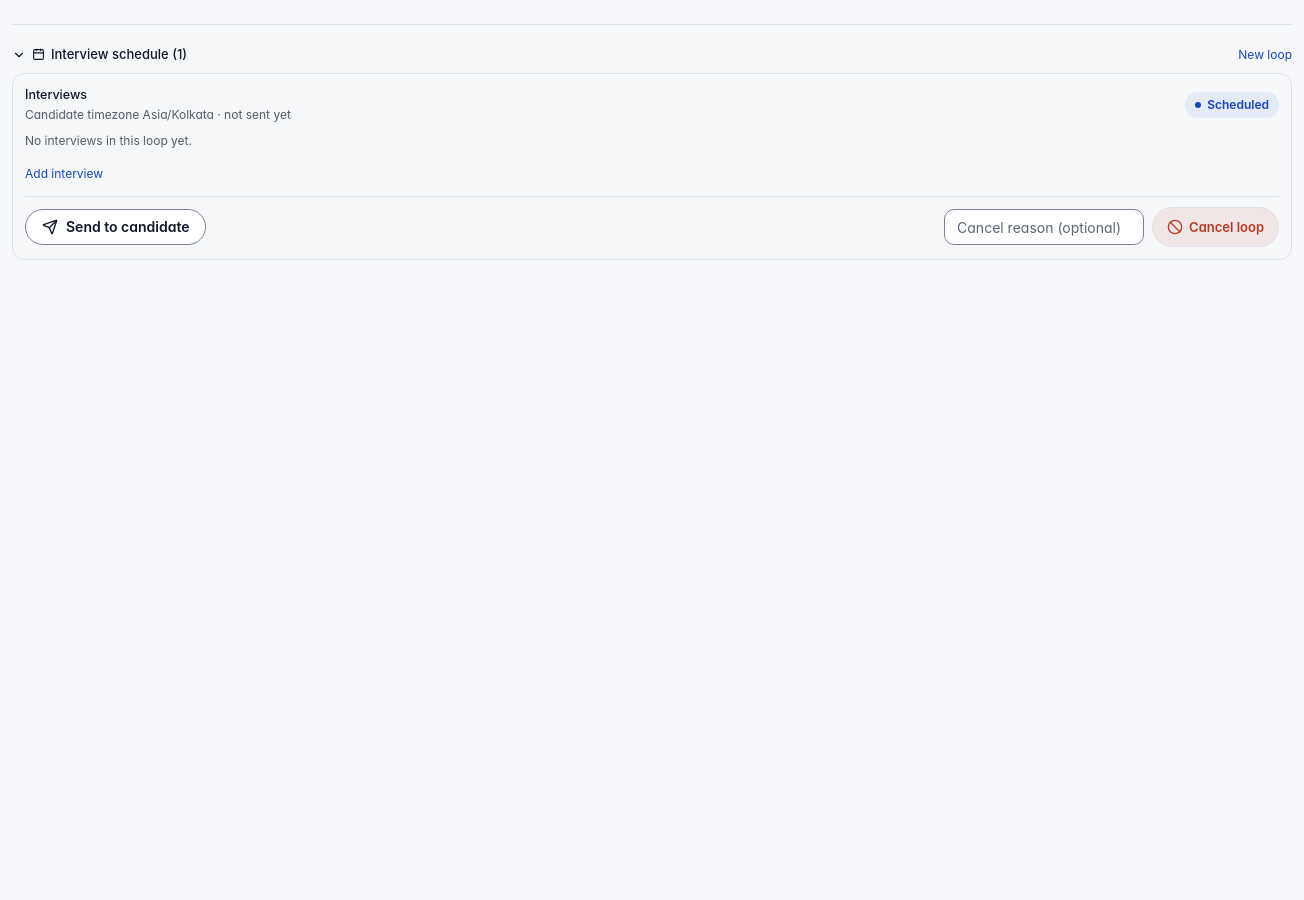
InterviewLoopsSection - form limits (IV-M2, IV-L10) › explains a cleared duration instead of sending 0
Click the button "Add interview" at (64, 174), box [25,165,103,183]
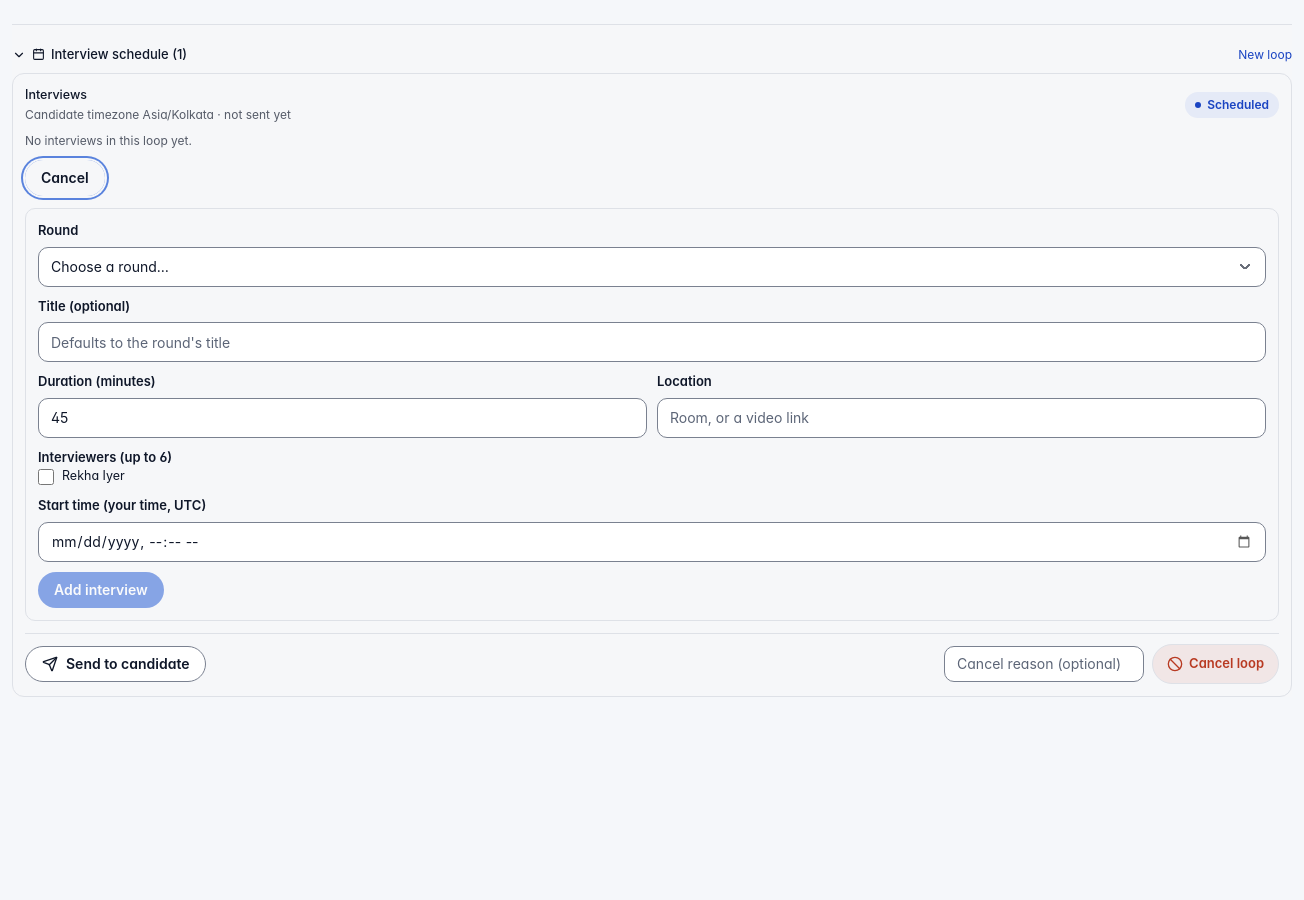
Select "Panel interview" in the dropdown labelled "Round" at (652, 267), box [38,247,1266,287]
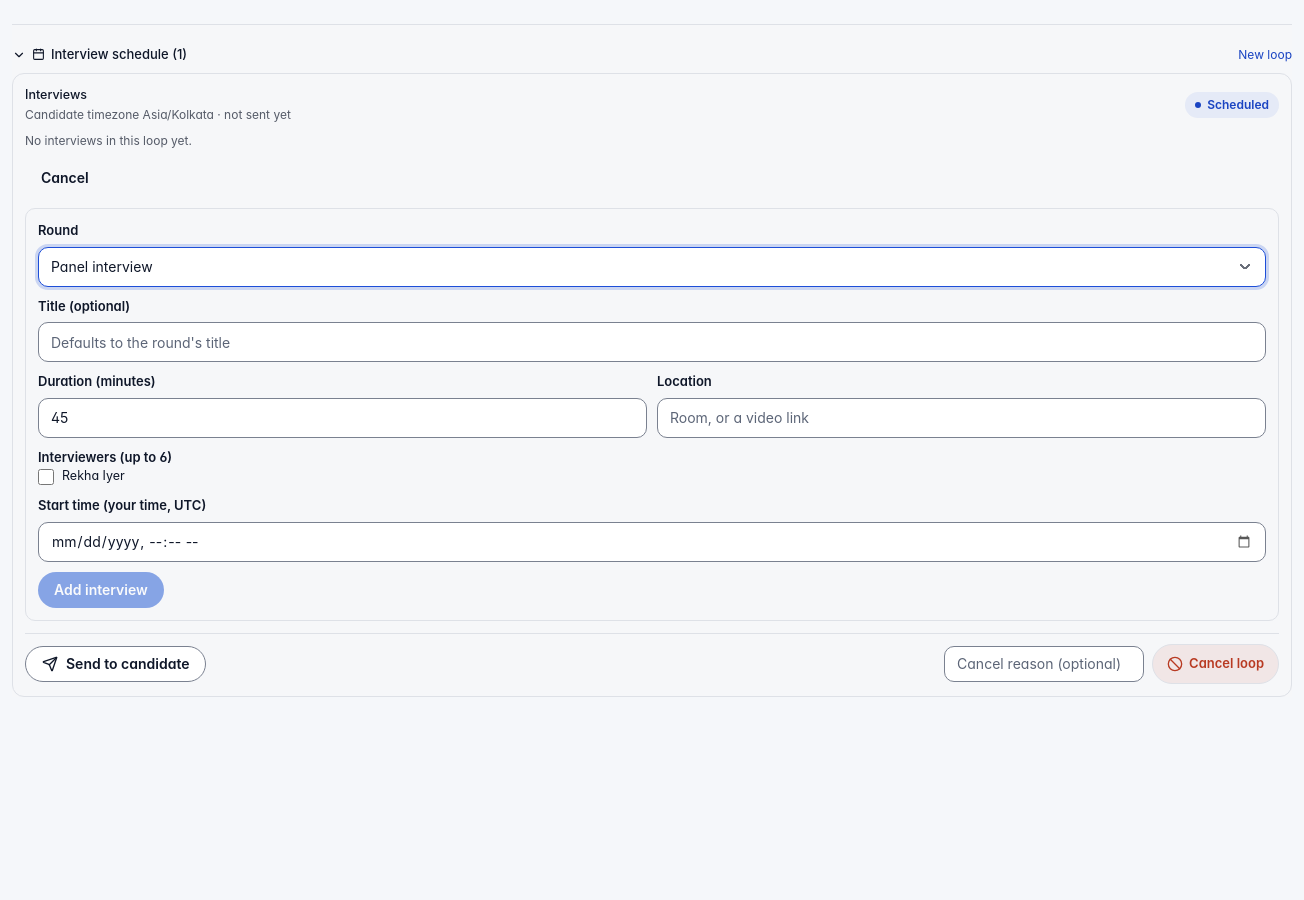
Click the checkbox labelled "Rekha Iyer" at (46, 477), box [38,469,54,485]
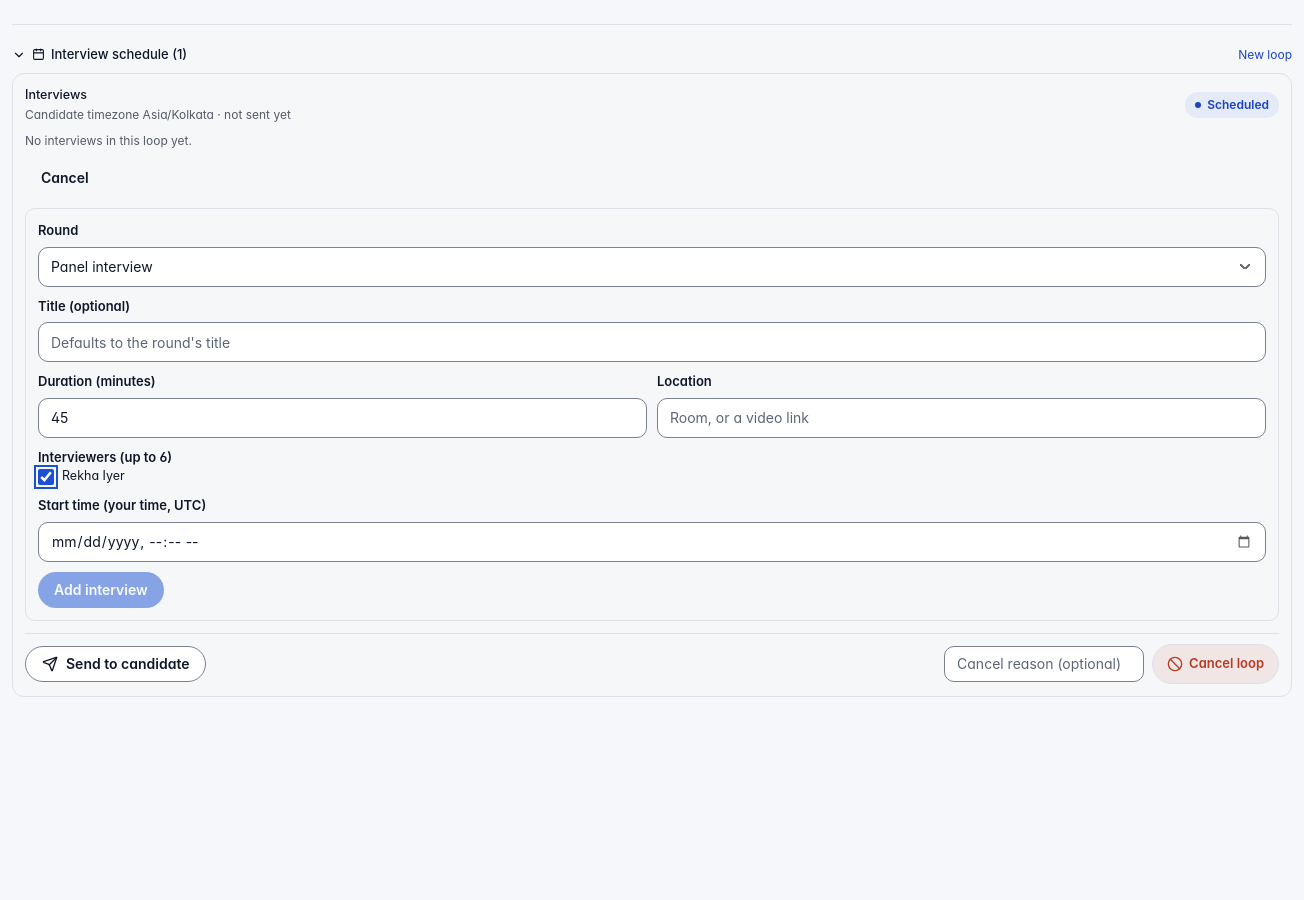
Type "2099-01-01T10:30" into the field labelled "Start time (your time, UTC)" at (652, 542), box [38,522,1266,562]
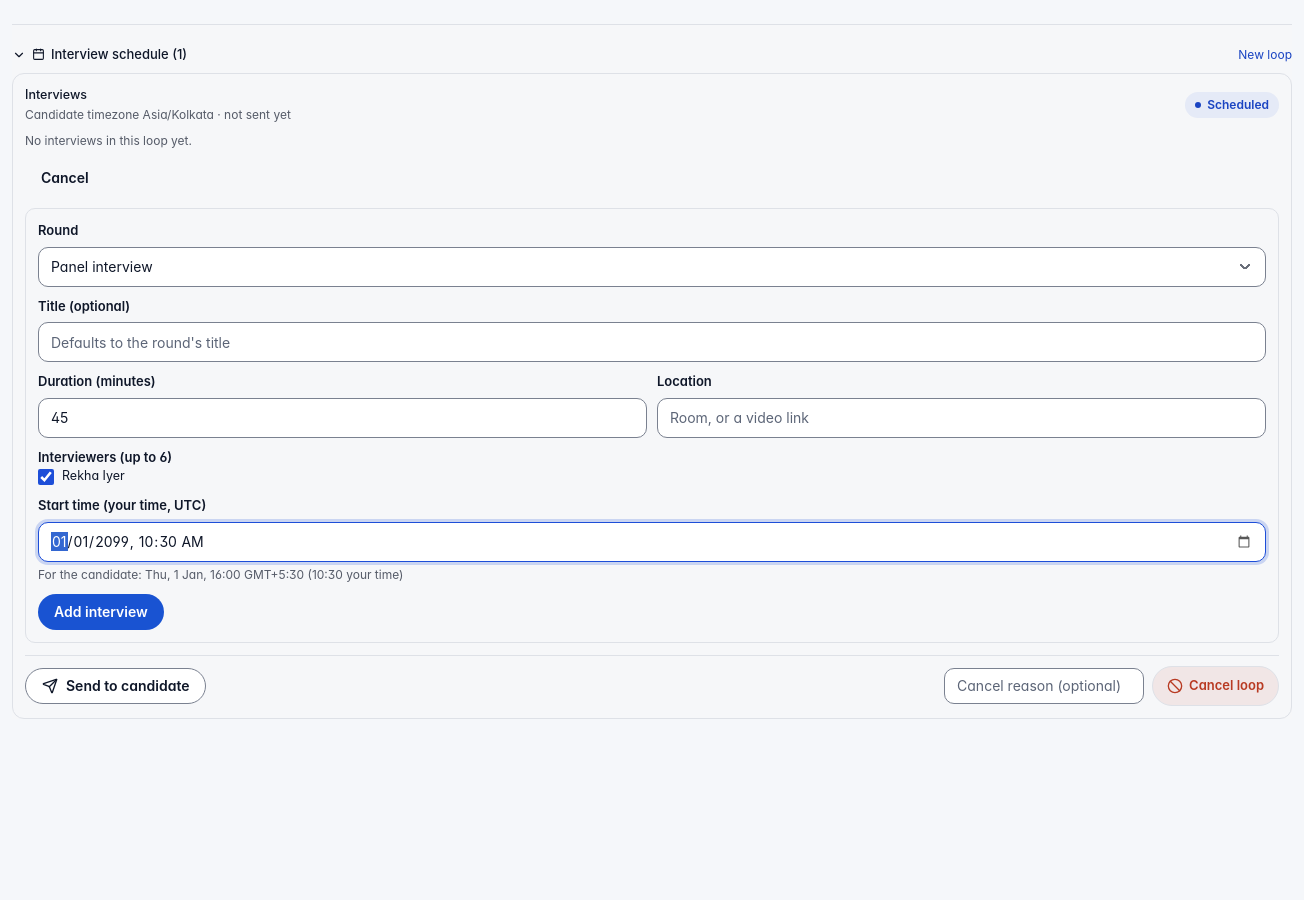
Clear the number field labelled "Duration (minutes)" at (342, 418), box [38,398,647,438]
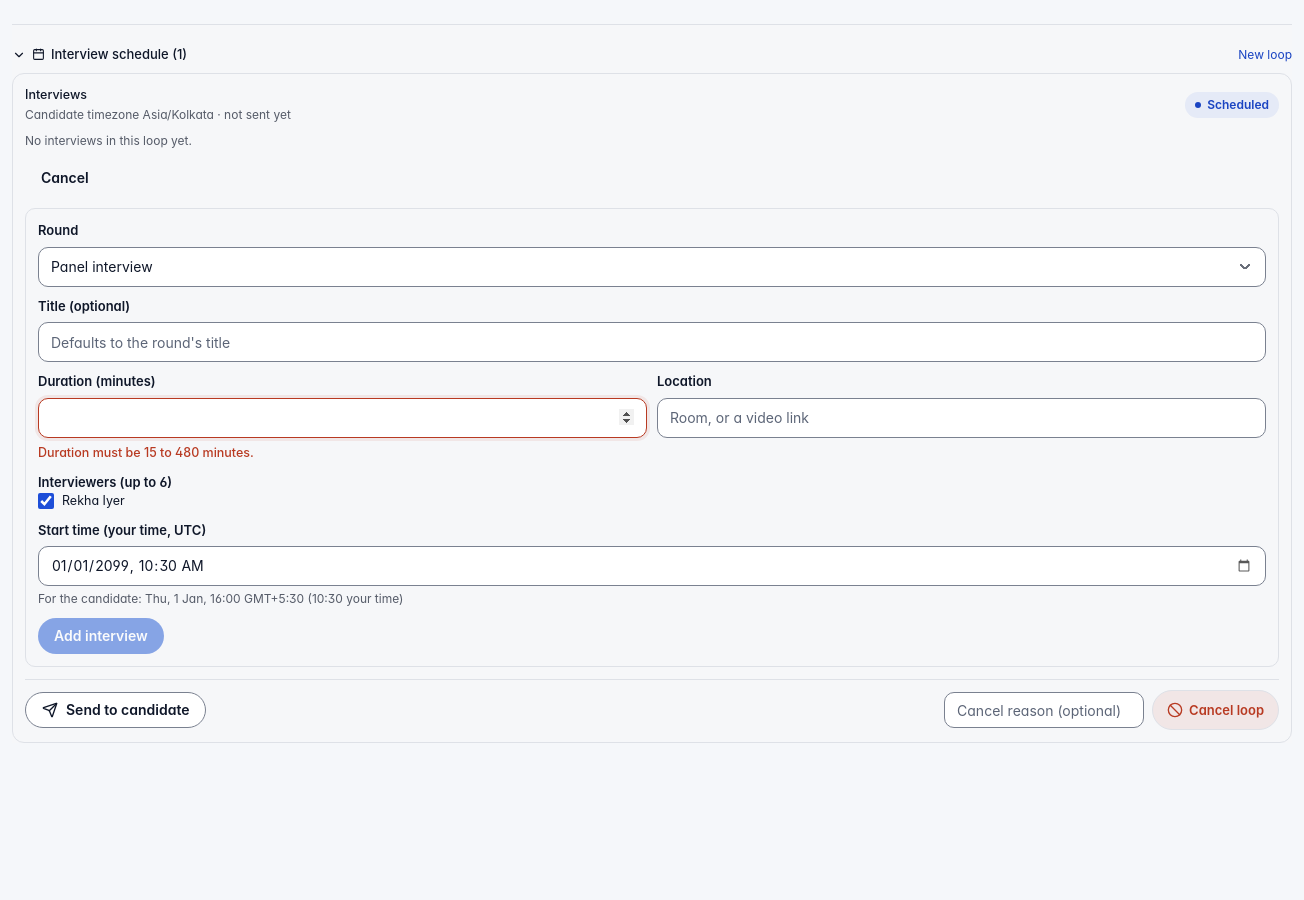
Expected: the text "Duration must be 15 to 480 minutes." is shown, [38,445,254,460]
Expected: the button "Add interview" is disabled, [38,618,164,654]
